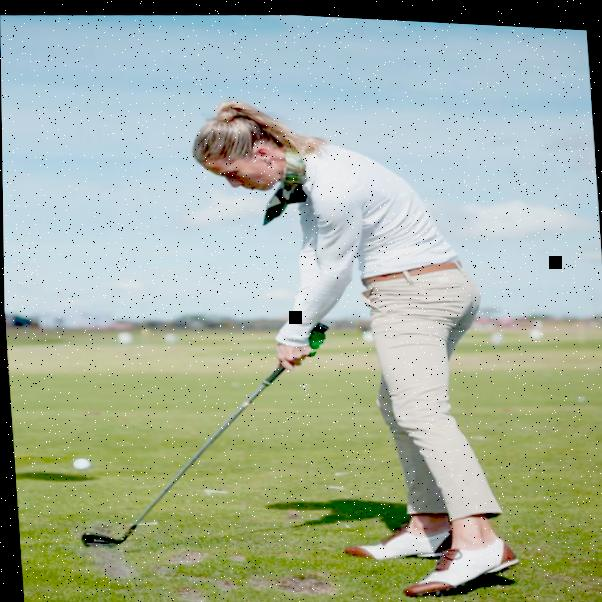ClubHead: (70, 516, 154, 554)
GolfBall: (69, 454, 96, 472)
